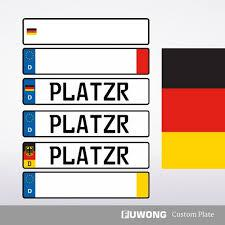A: (77, 115, 89, 134), (77, 146, 89, 165), (77, 82, 89, 100)
L: (61, 145, 75, 166), (62, 114, 75, 135), (62, 81, 75, 101)
P: (49, 114, 62, 134), (49, 81, 62, 101), (49, 146, 61, 167)
R: (117, 114, 130, 134), (117, 82, 130, 102), (118, 146, 130, 166)
T: (90, 145, 102, 165), (90, 115, 102, 134), (90, 82, 102, 101)
Z: (103, 83, 116, 102), (103, 145, 115, 165), (103, 115, 115, 134)
